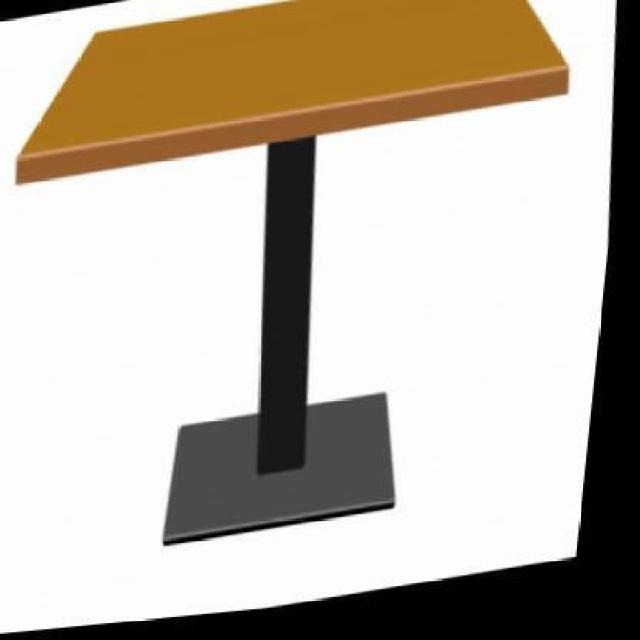tables: (12, 0, 571, 545)
